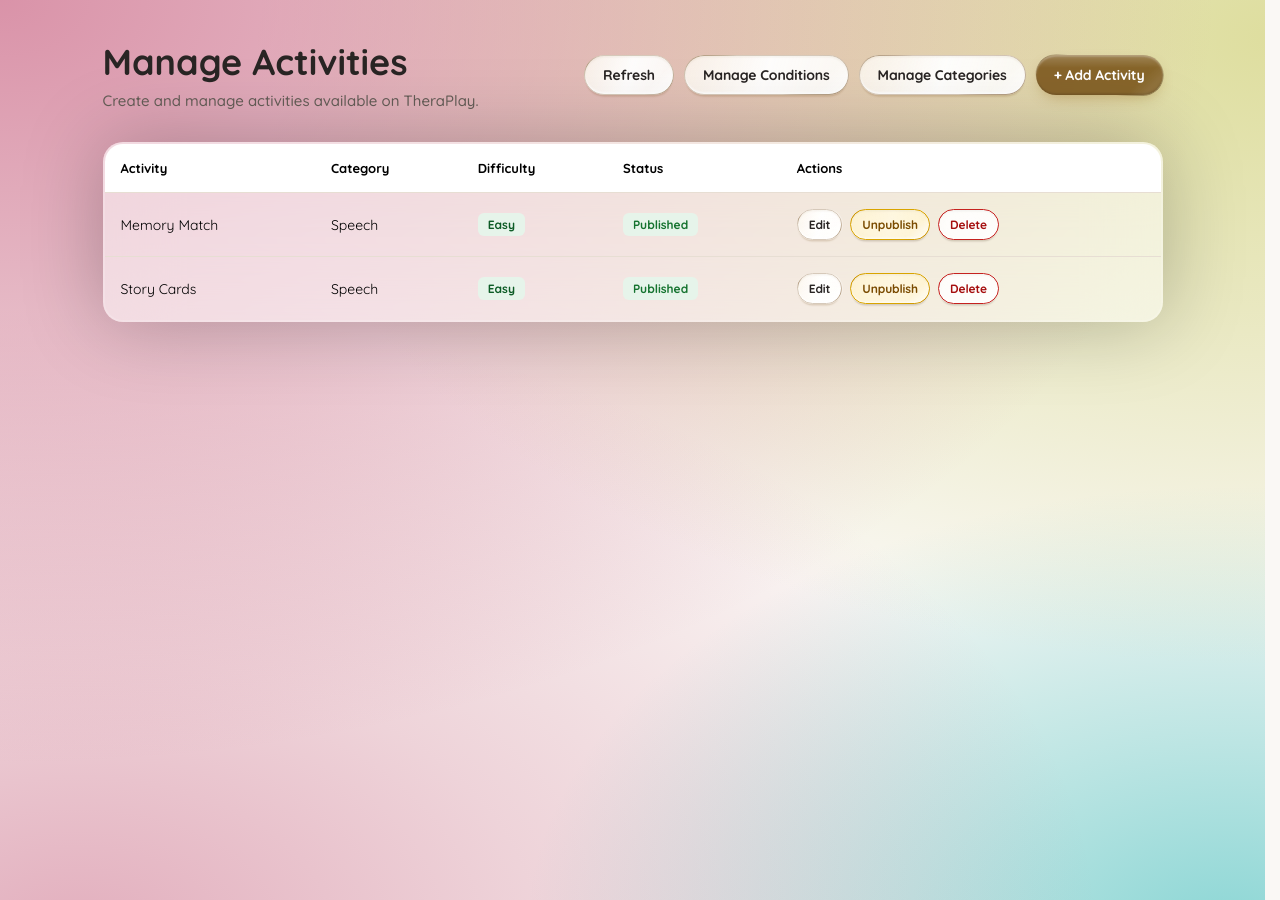
Manage Activities: permanent delete › deletes after confirming, says so, and refreshes the list
Click the button with aria-label "Delete Memory Match" at (968, 225), box [938,209,999,240]
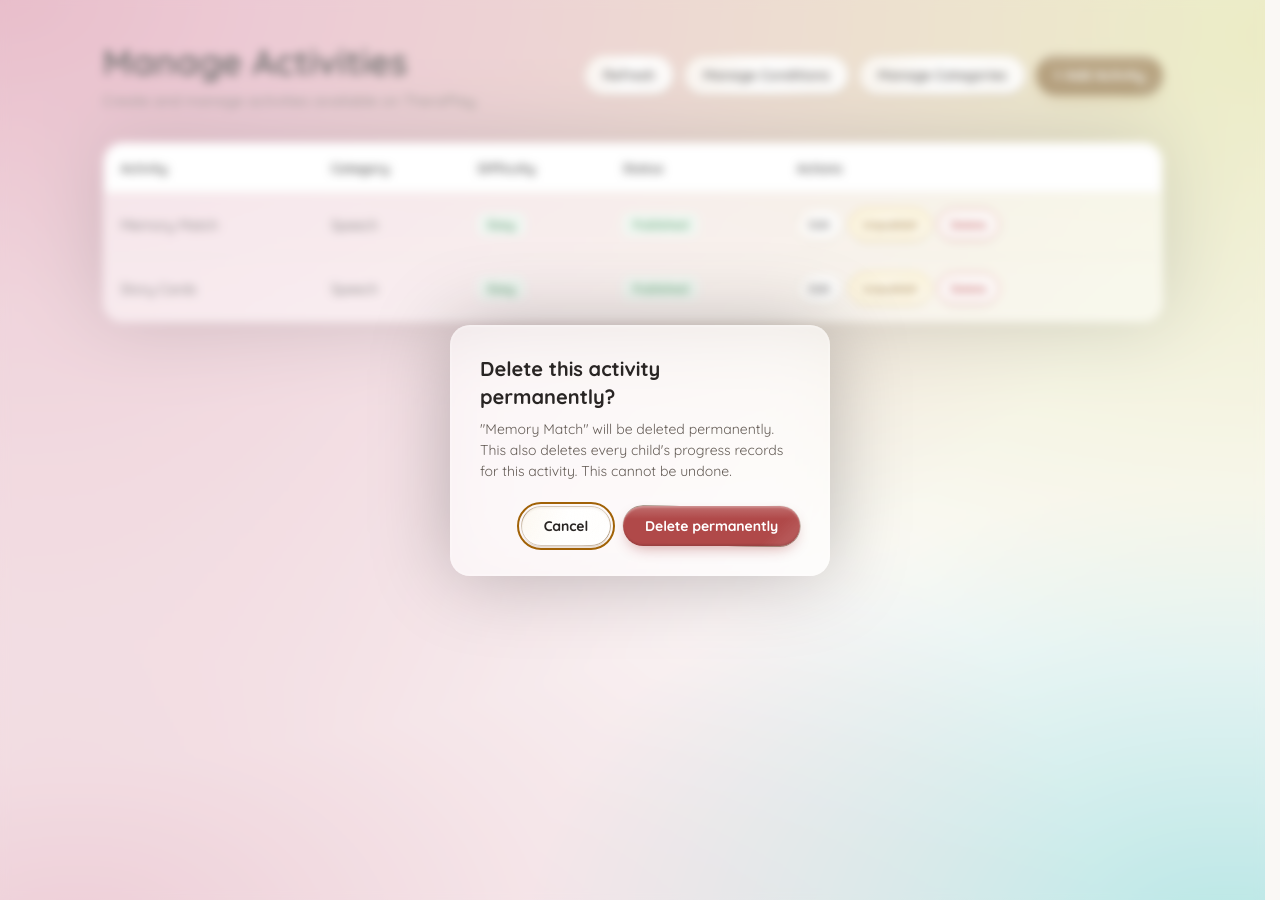
Click the button "Delete permanently" at (712, 526), box [623,506,800,546]
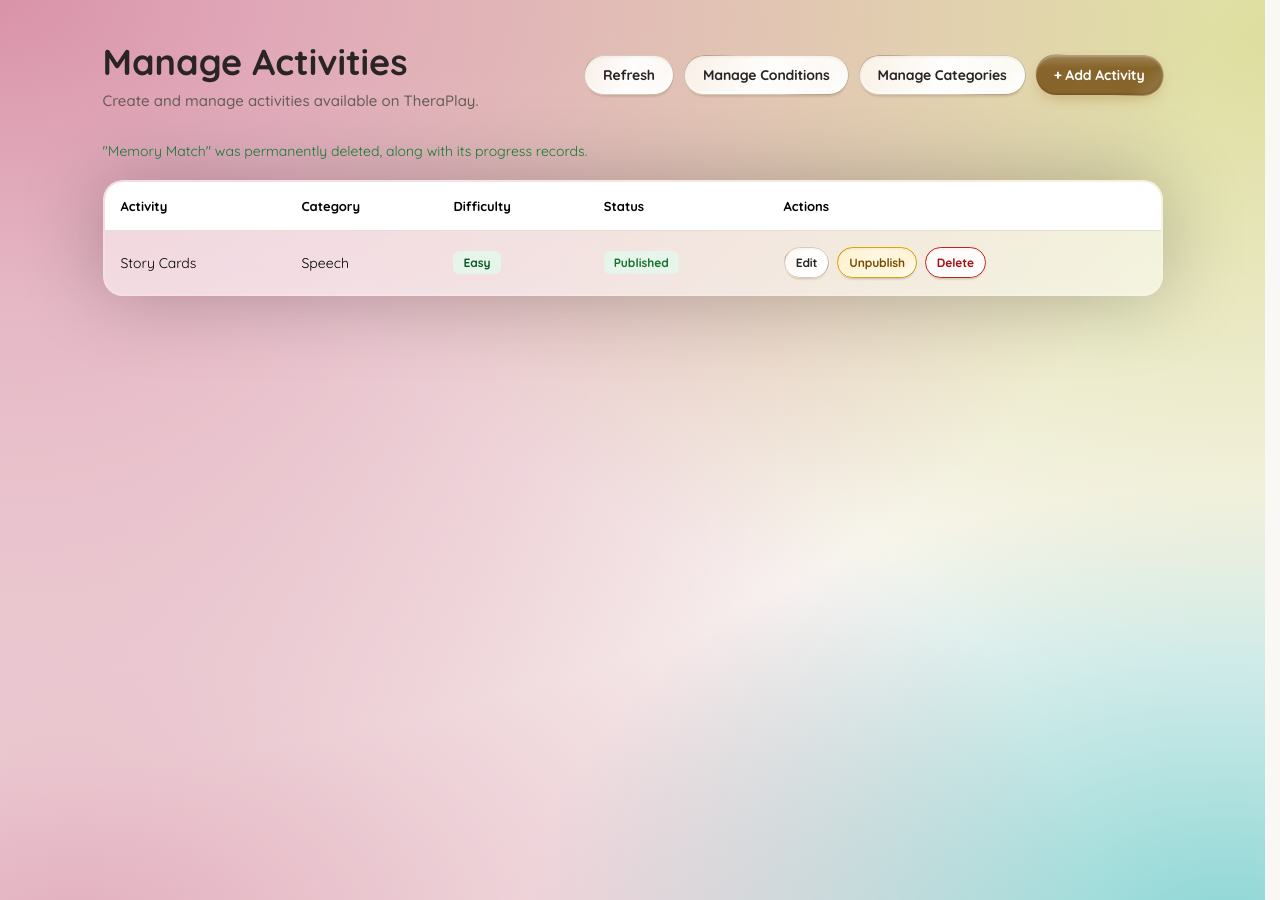
Expected: the button with aria-label "Edit Story Cards" is shown, [784,247,829,278]
Result: the text "\"Memory Match\" was permanently deleted, along with its progress records." is shown at [102,142,587,160]
Result: the dialog is gone
